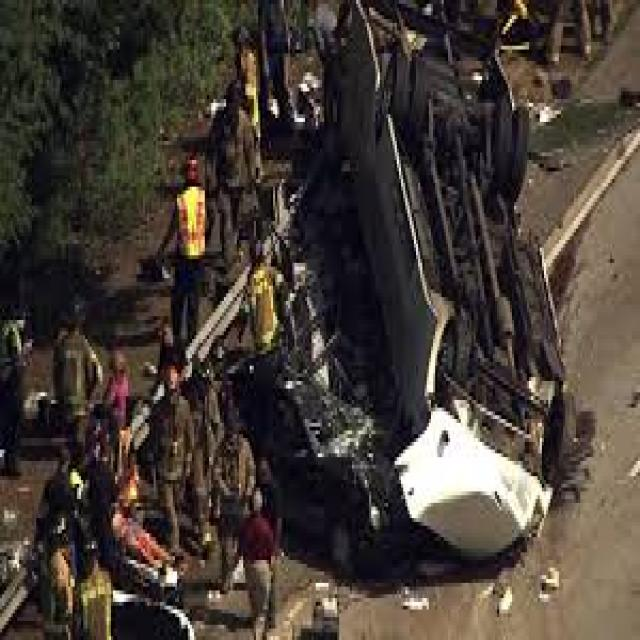accident: (316, 3, 582, 593)
